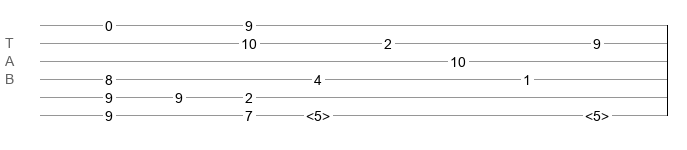0: (105, 18, 113, 28)
1: (523, 72, 531, 82)
10: (241, 36, 257, 46), (450, 54, 466, 64)
2: (245, 90, 253, 100), (384, 36, 392, 46)
4: (314, 72, 322, 82)
7: (245, 108, 253, 118)
8: (105, 72, 113, 82)
9: (105, 108, 113, 118), (105, 90, 113, 100), (175, 90, 183, 100), (245, 18, 253, 28), (593, 36, 601, 46)
harmonic: (306, 108, 330, 118), (585, 108, 609, 118)
